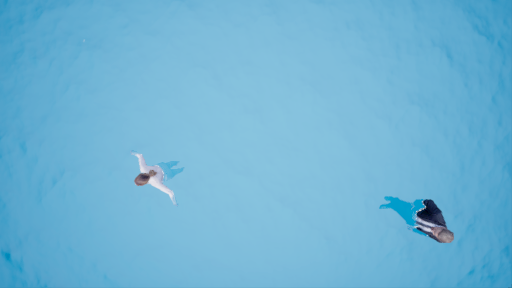person: (378, 191, 463, 252), (124, 149, 194, 204)
